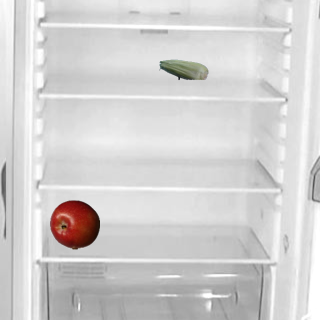Apple Braeburn: (49, 199, 99, 249)
Corn Husk: (158, 44, 208, 94)
